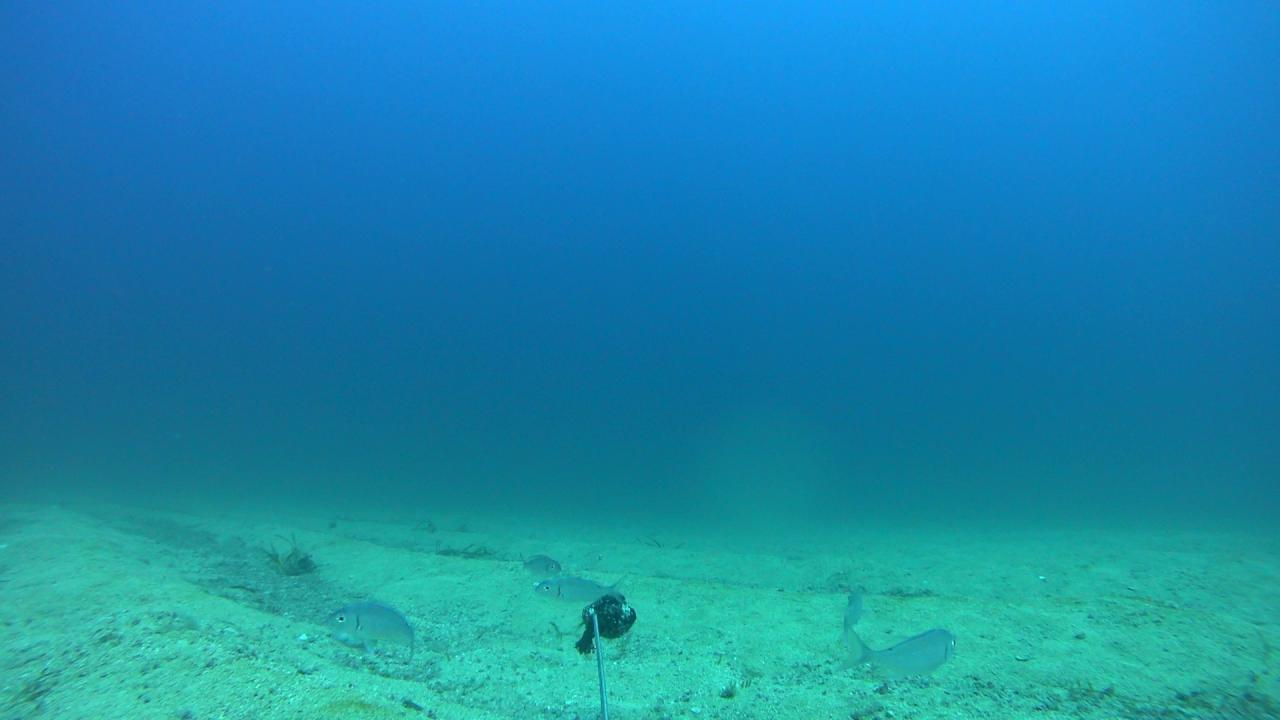pagellus: (321, 600, 417, 663), (843, 627, 958, 678), (532, 570, 632, 603), (520, 549, 560, 576)
